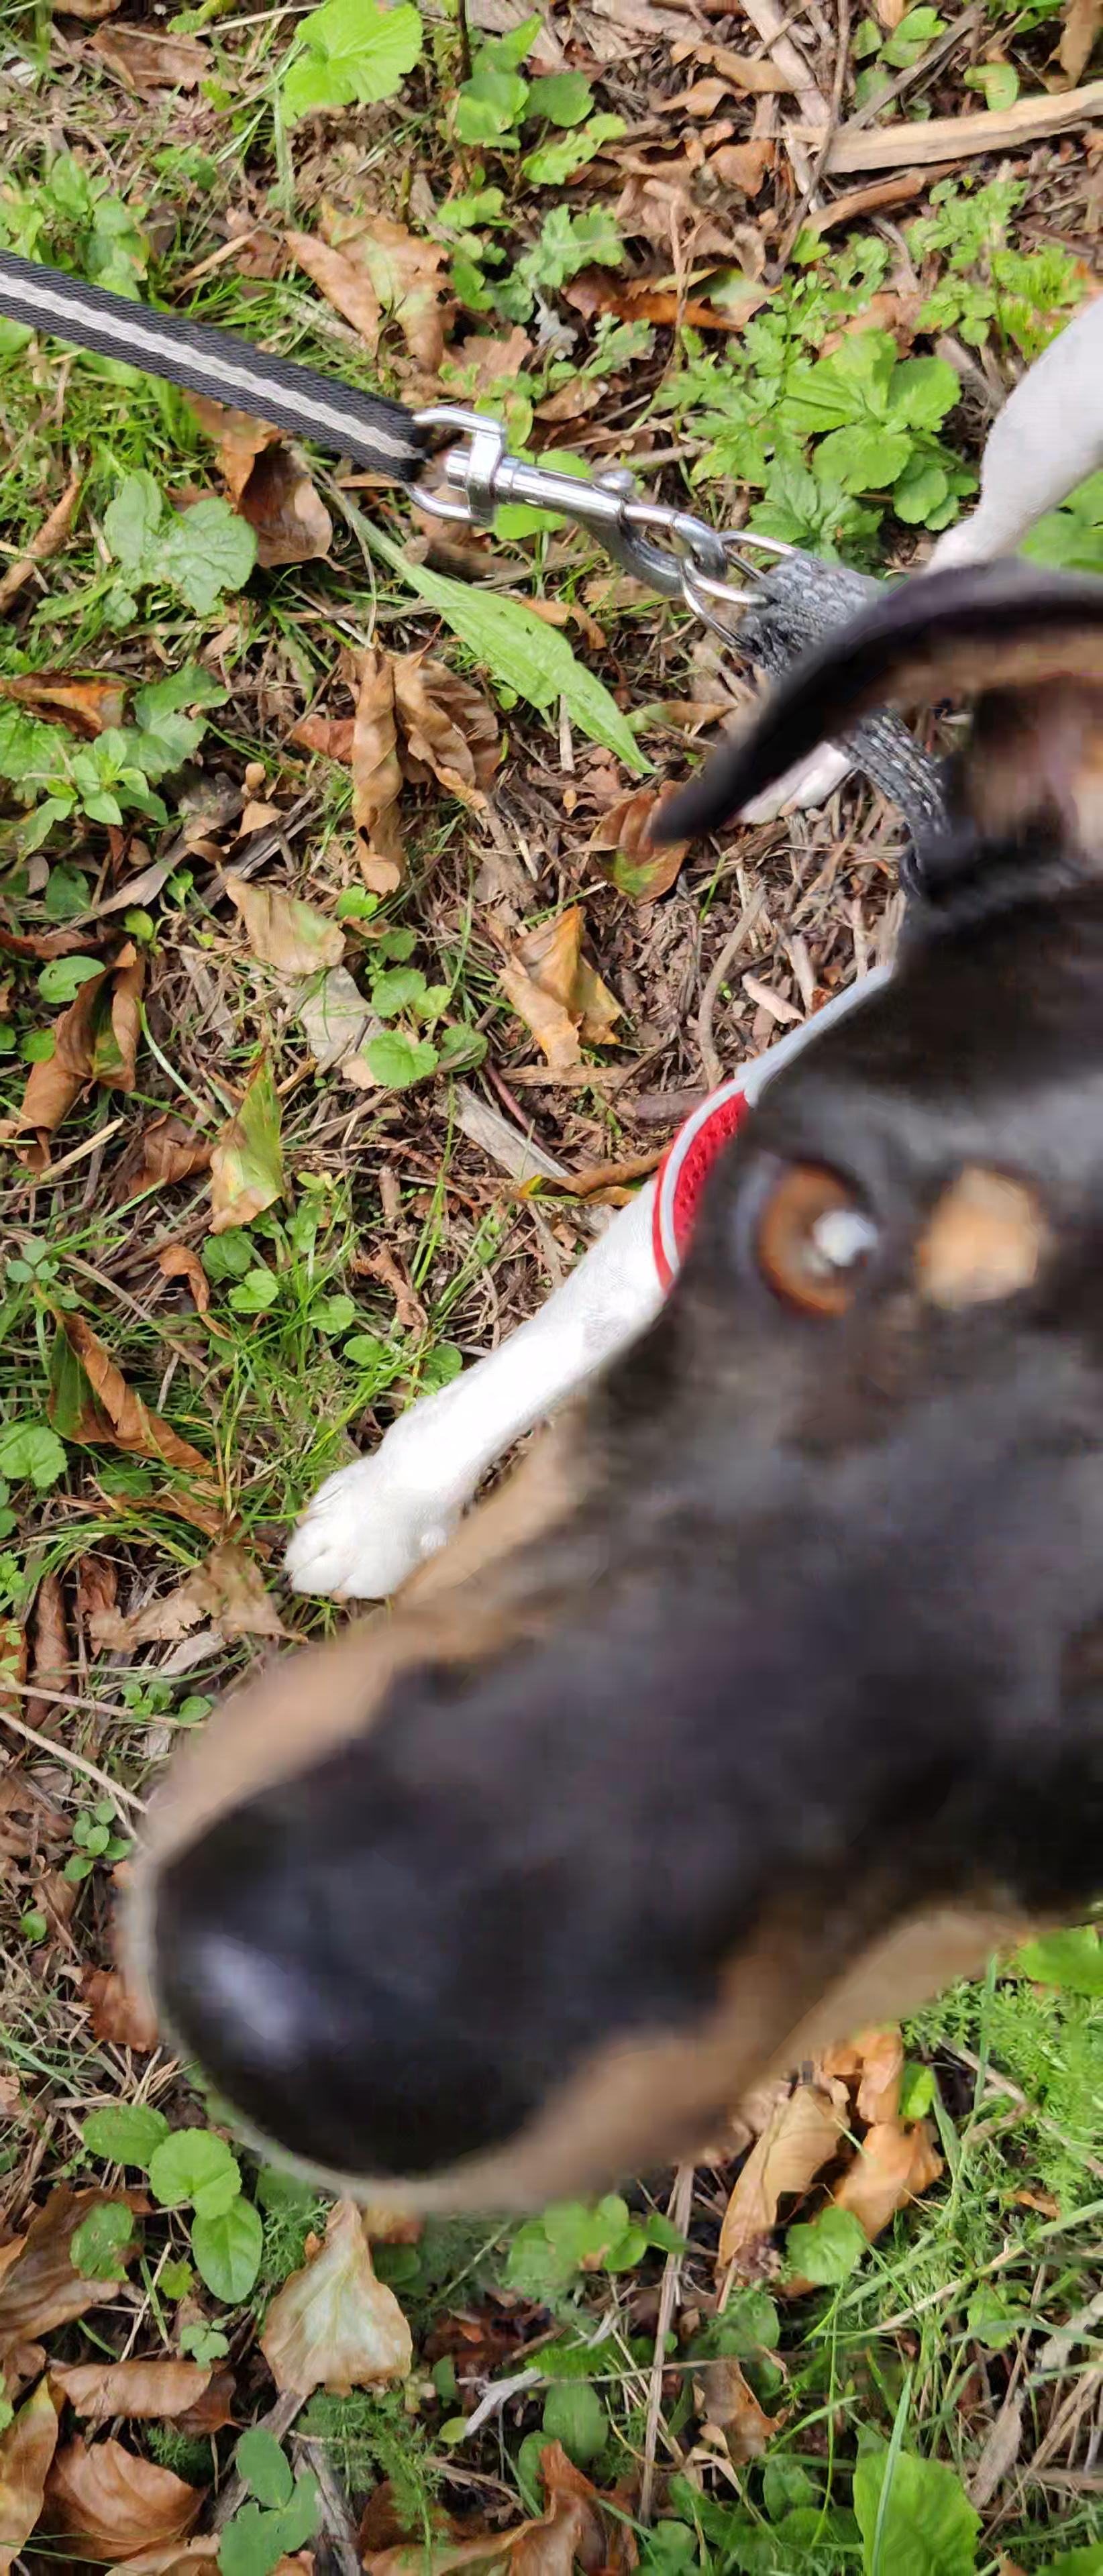Dog: (99, 248, 1103, 2252)
